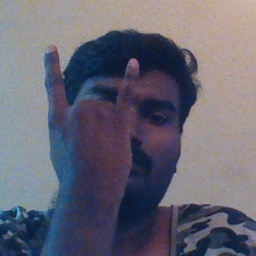V: (36, 38, 147, 191)
